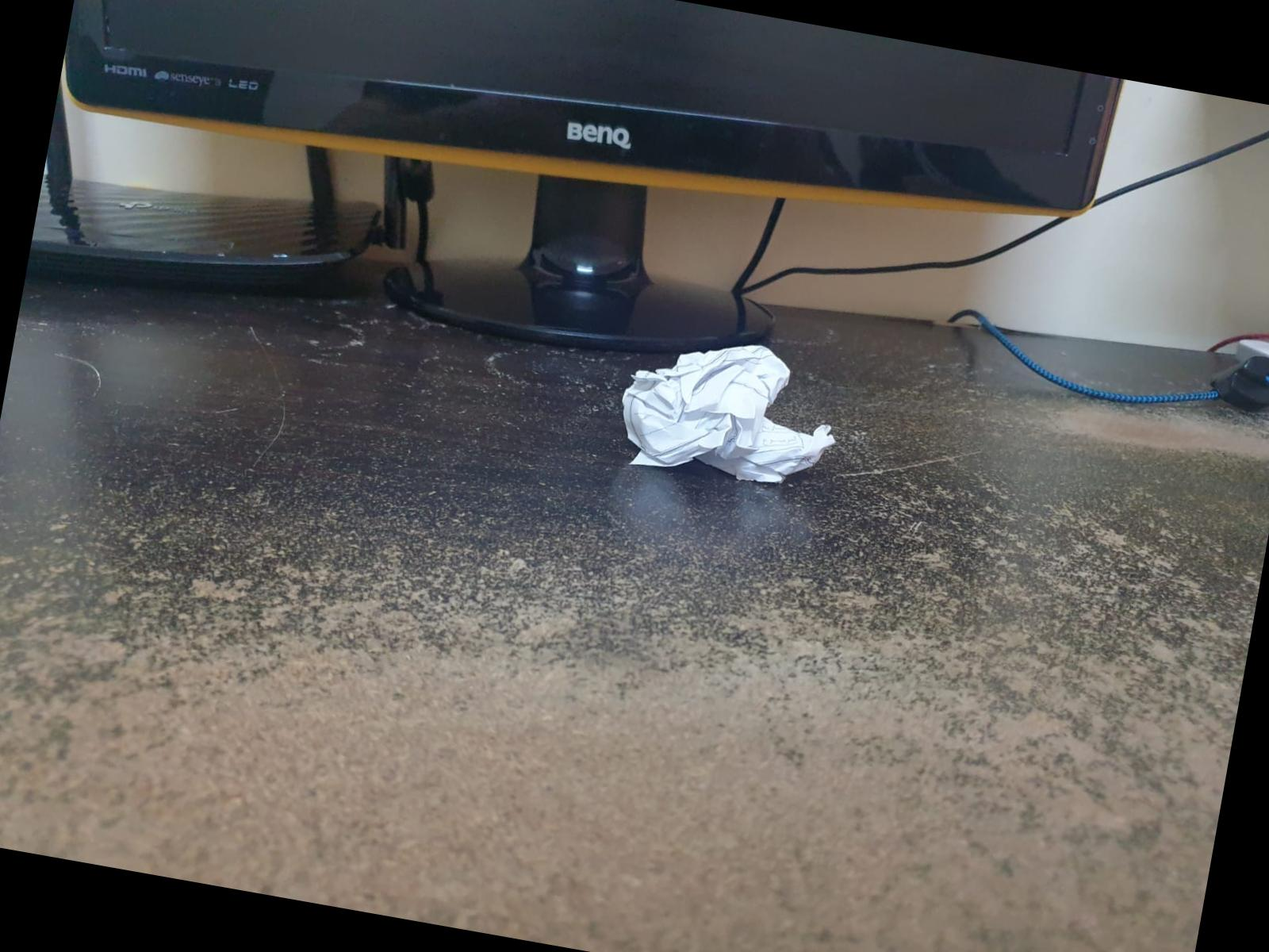Kertas: (618, 345, 851, 488)
